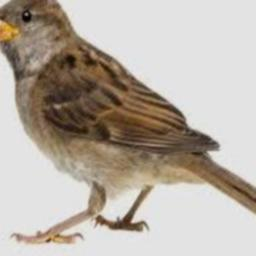Sparrow: (0, 0, 256, 244)
